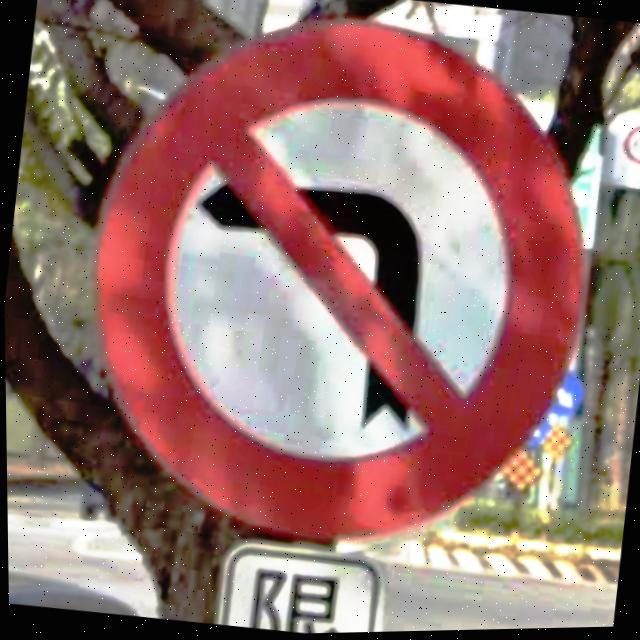noturnleft: (90, 21, 587, 542)
